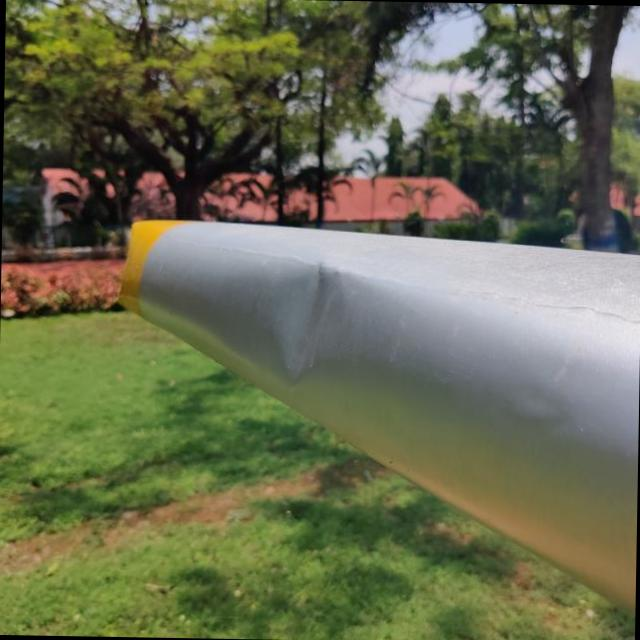Dent: (252, 254, 348, 383)
